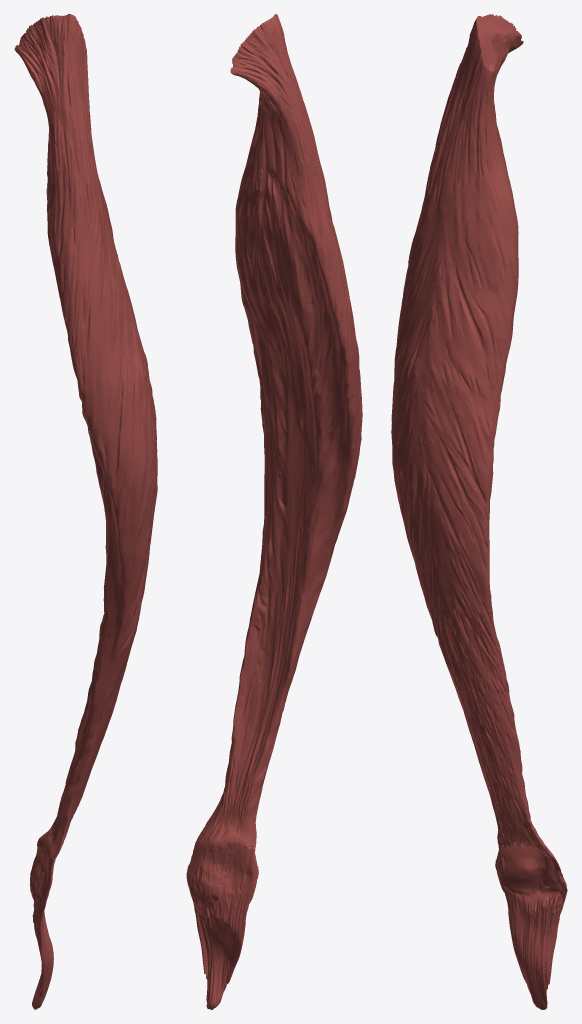
The model's file is FMA38928.glb.
3 views of the same model, side by side, from view 1: azimuth 90°, elevation 25°; view 2: azimuth 150°, elevation 25°; view 3: azimuth 330°, elevation 25° (orthographic). The views are drawn at different scales.
Visible parts, largest first — view 1: FMA38928; view 2: FMA38928; view 3: FMA38928.
Part boxes in pixels (x1,y1,x2,y2): FMA38928: (14,14,157,1009); FMA38928: (186,14,362,1009); FMA38928: (391,14,567,1009).
Size of the model in its own units: 0.079 by 0.5279 by 0.0673.
